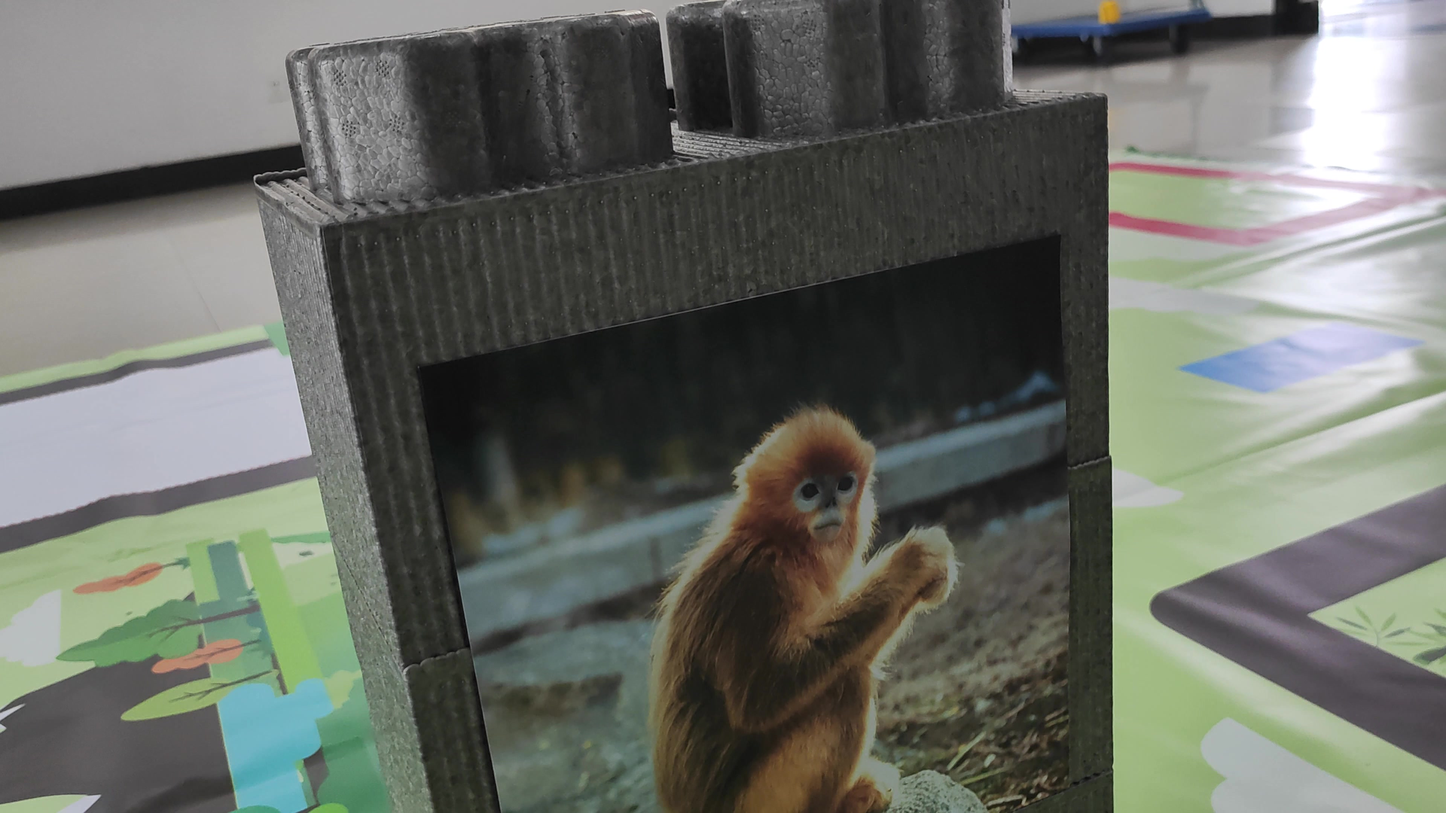monkey: (559, 379, 999, 809)
